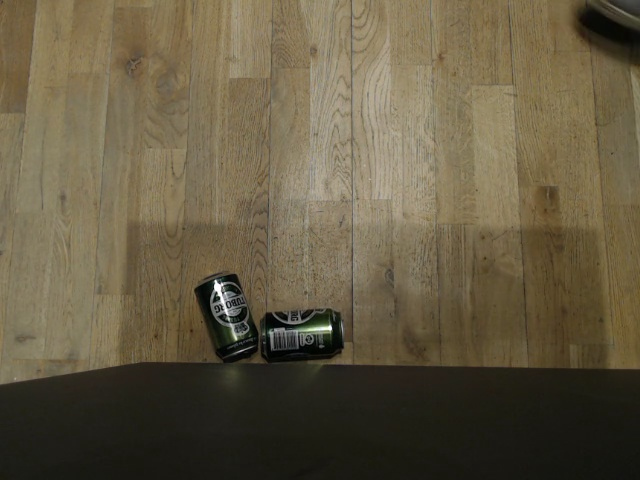beer: (194, 269, 258, 362), (260, 309, 343, 363)
